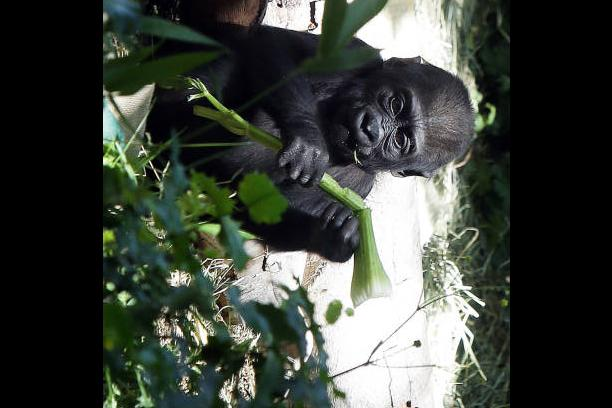gorille_Autres: (150, 0, 478, 308)
